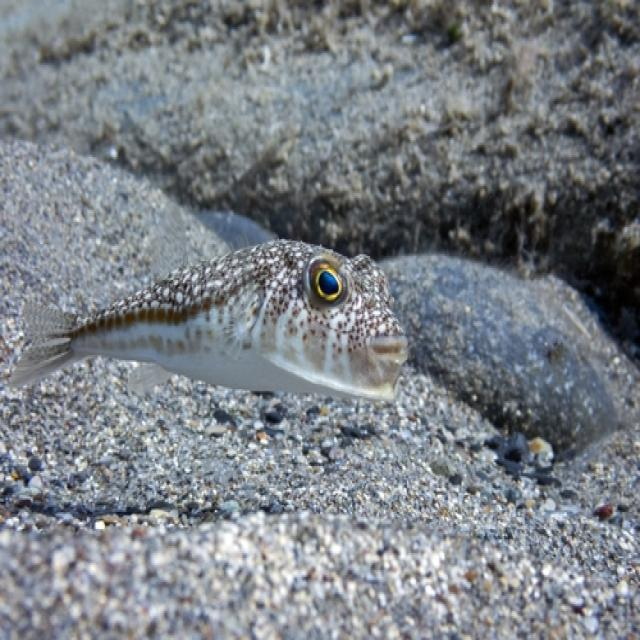Balik: (11, 241, 408, 399)
